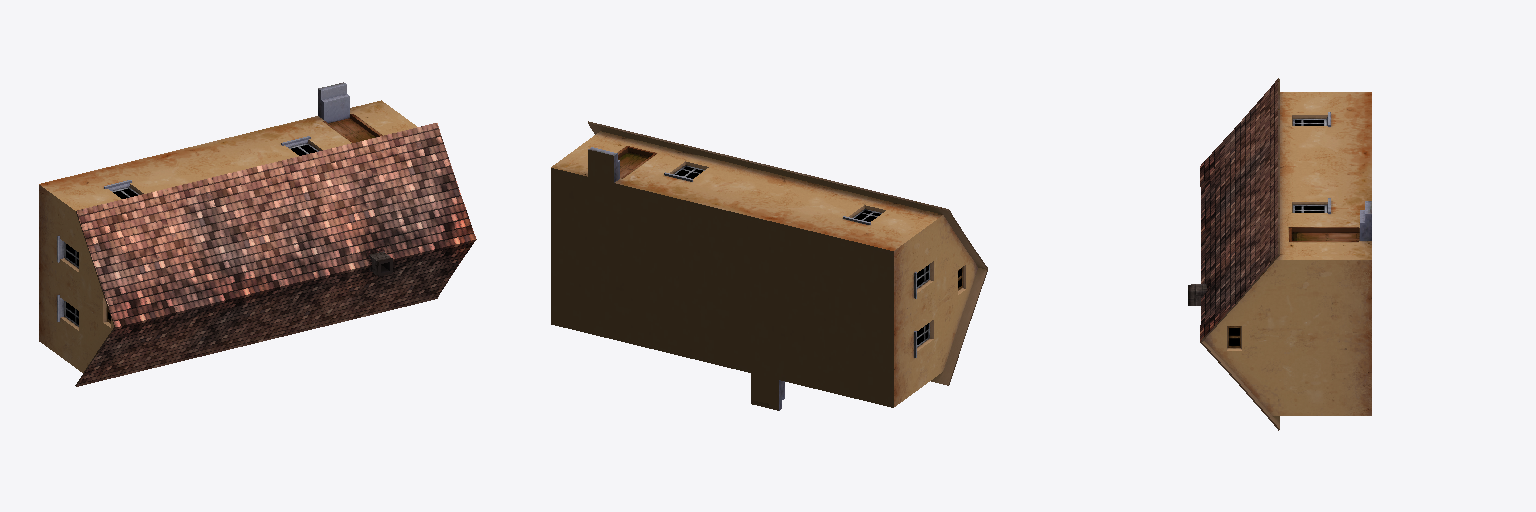
3 views of the same model, side by side, from view 1: azimuth 30°, elevation 25°; view 2: azimuth 150°, elevation 25°; view 3: azimuth 270°, elevation 25° (orthographic).
Parts seen in each view (by area): view 1: pHouse; view 2: pHouse; view 3: pHouse.
Boxes of the visible parts, x1=… form: pHouse: x1=39, y1=82, x2=476, y2=386; pHouse: x1=551, y1=121, x2=987, y2=410; pHouse: x1=1188, y1=78, x2=1371, y2=430.
Size of the model in its own units: 96.63 by 54.98 by 42.57.
Materials: 1 (1 with a texture image).